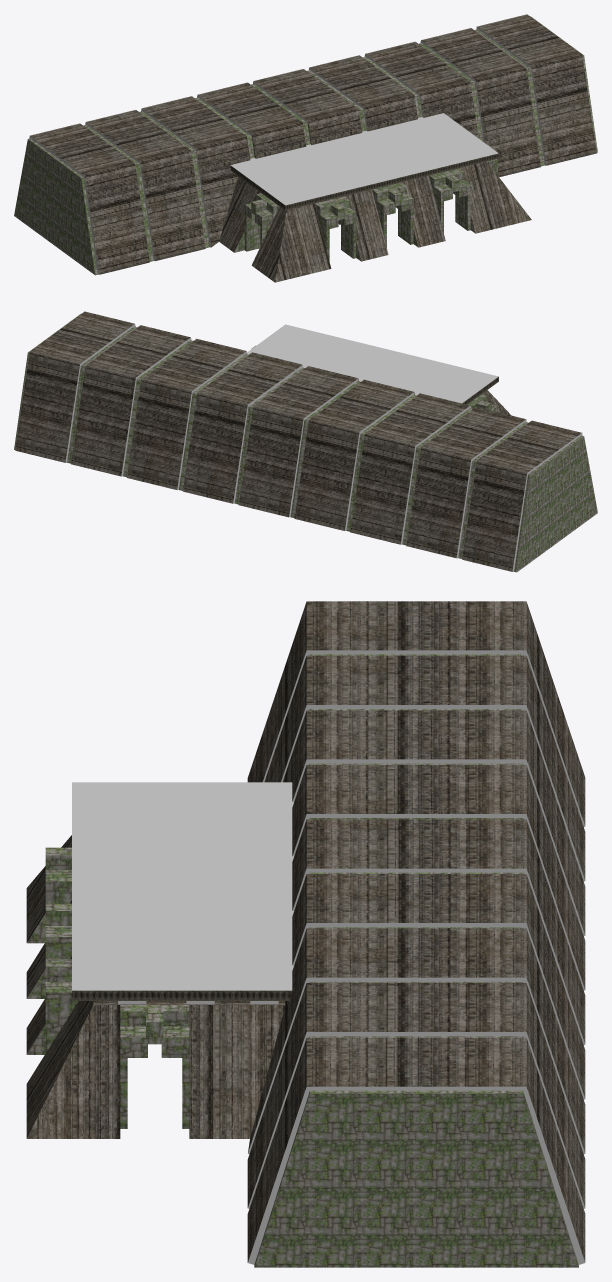
File: thm_yavn_palace_woolamander_r0_mesh_l1.fbx
3 renders of one model, top to bottom at view 1: azimuth 30°, elevation 25°; view 2: azimuth 150°, elevation 25°; view 3: azimuth 270°, elevation 25°, orthographic. The views are drawn at different scales.
Visible parts, largest first — view 1: mesh_node; view 2: mesh_node; view 3: mesh_node.
Part boxes in pixels (left/top/right/bottom): mesh_node: left=14, top=14, right=597, bottom=282; mesh_node: left=14, top=311, right=597, bottom=572; mesh_node: left=26, top=601, right=585, bottom=1267.
Size of the model in its own units: 180 by 30.5 by 86.61.
